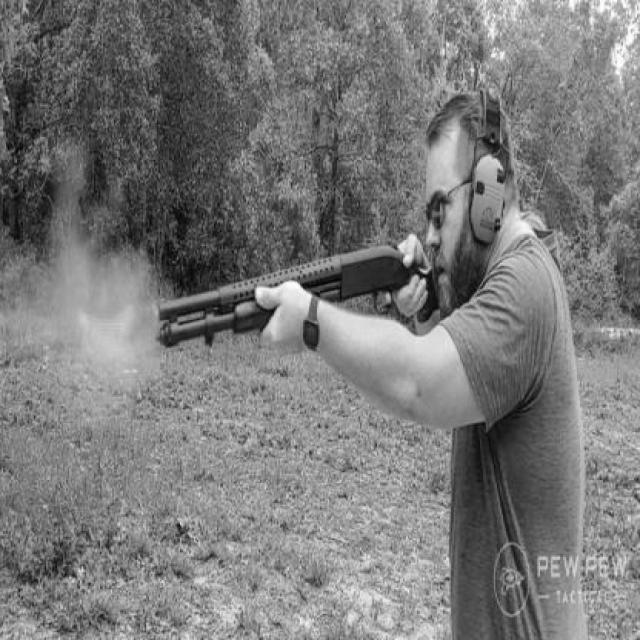weapon: (153, 244, 439, 352)
